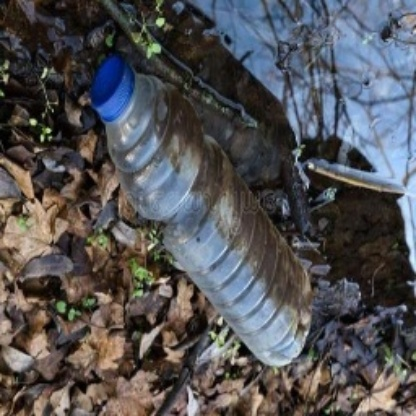bottle: (89, 53, 315, 370)
